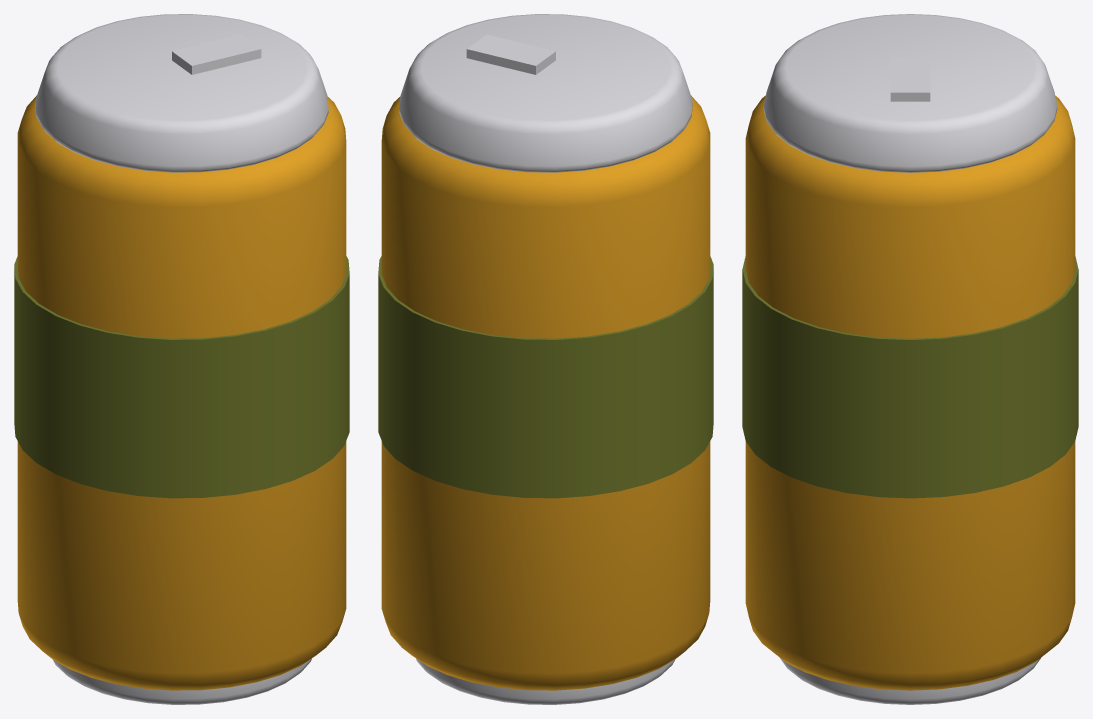
Rendered from beer_can.glb.
3 renders of one model, left to right at view 1: azimuth 30°, elevation 25°; view 2: azimuth 150°, elevation 25°; view 3: azimuth 270°, elevation 25°, orthographic.
Parts seen in each view (by area): view 1: beer_can; view 2: beer_can; view 3: beer_can.
Boxes of the visible parts, box(x1,y1,x2,y2) form: beer_can: box(14, 14, 349, 704); beer_can: box(378, 14, 713, 704); beer_can: box(742, 14, 1078, 704).
Bounding box in the file's own units: 0.0673 × 0.131 × 0.0673.
